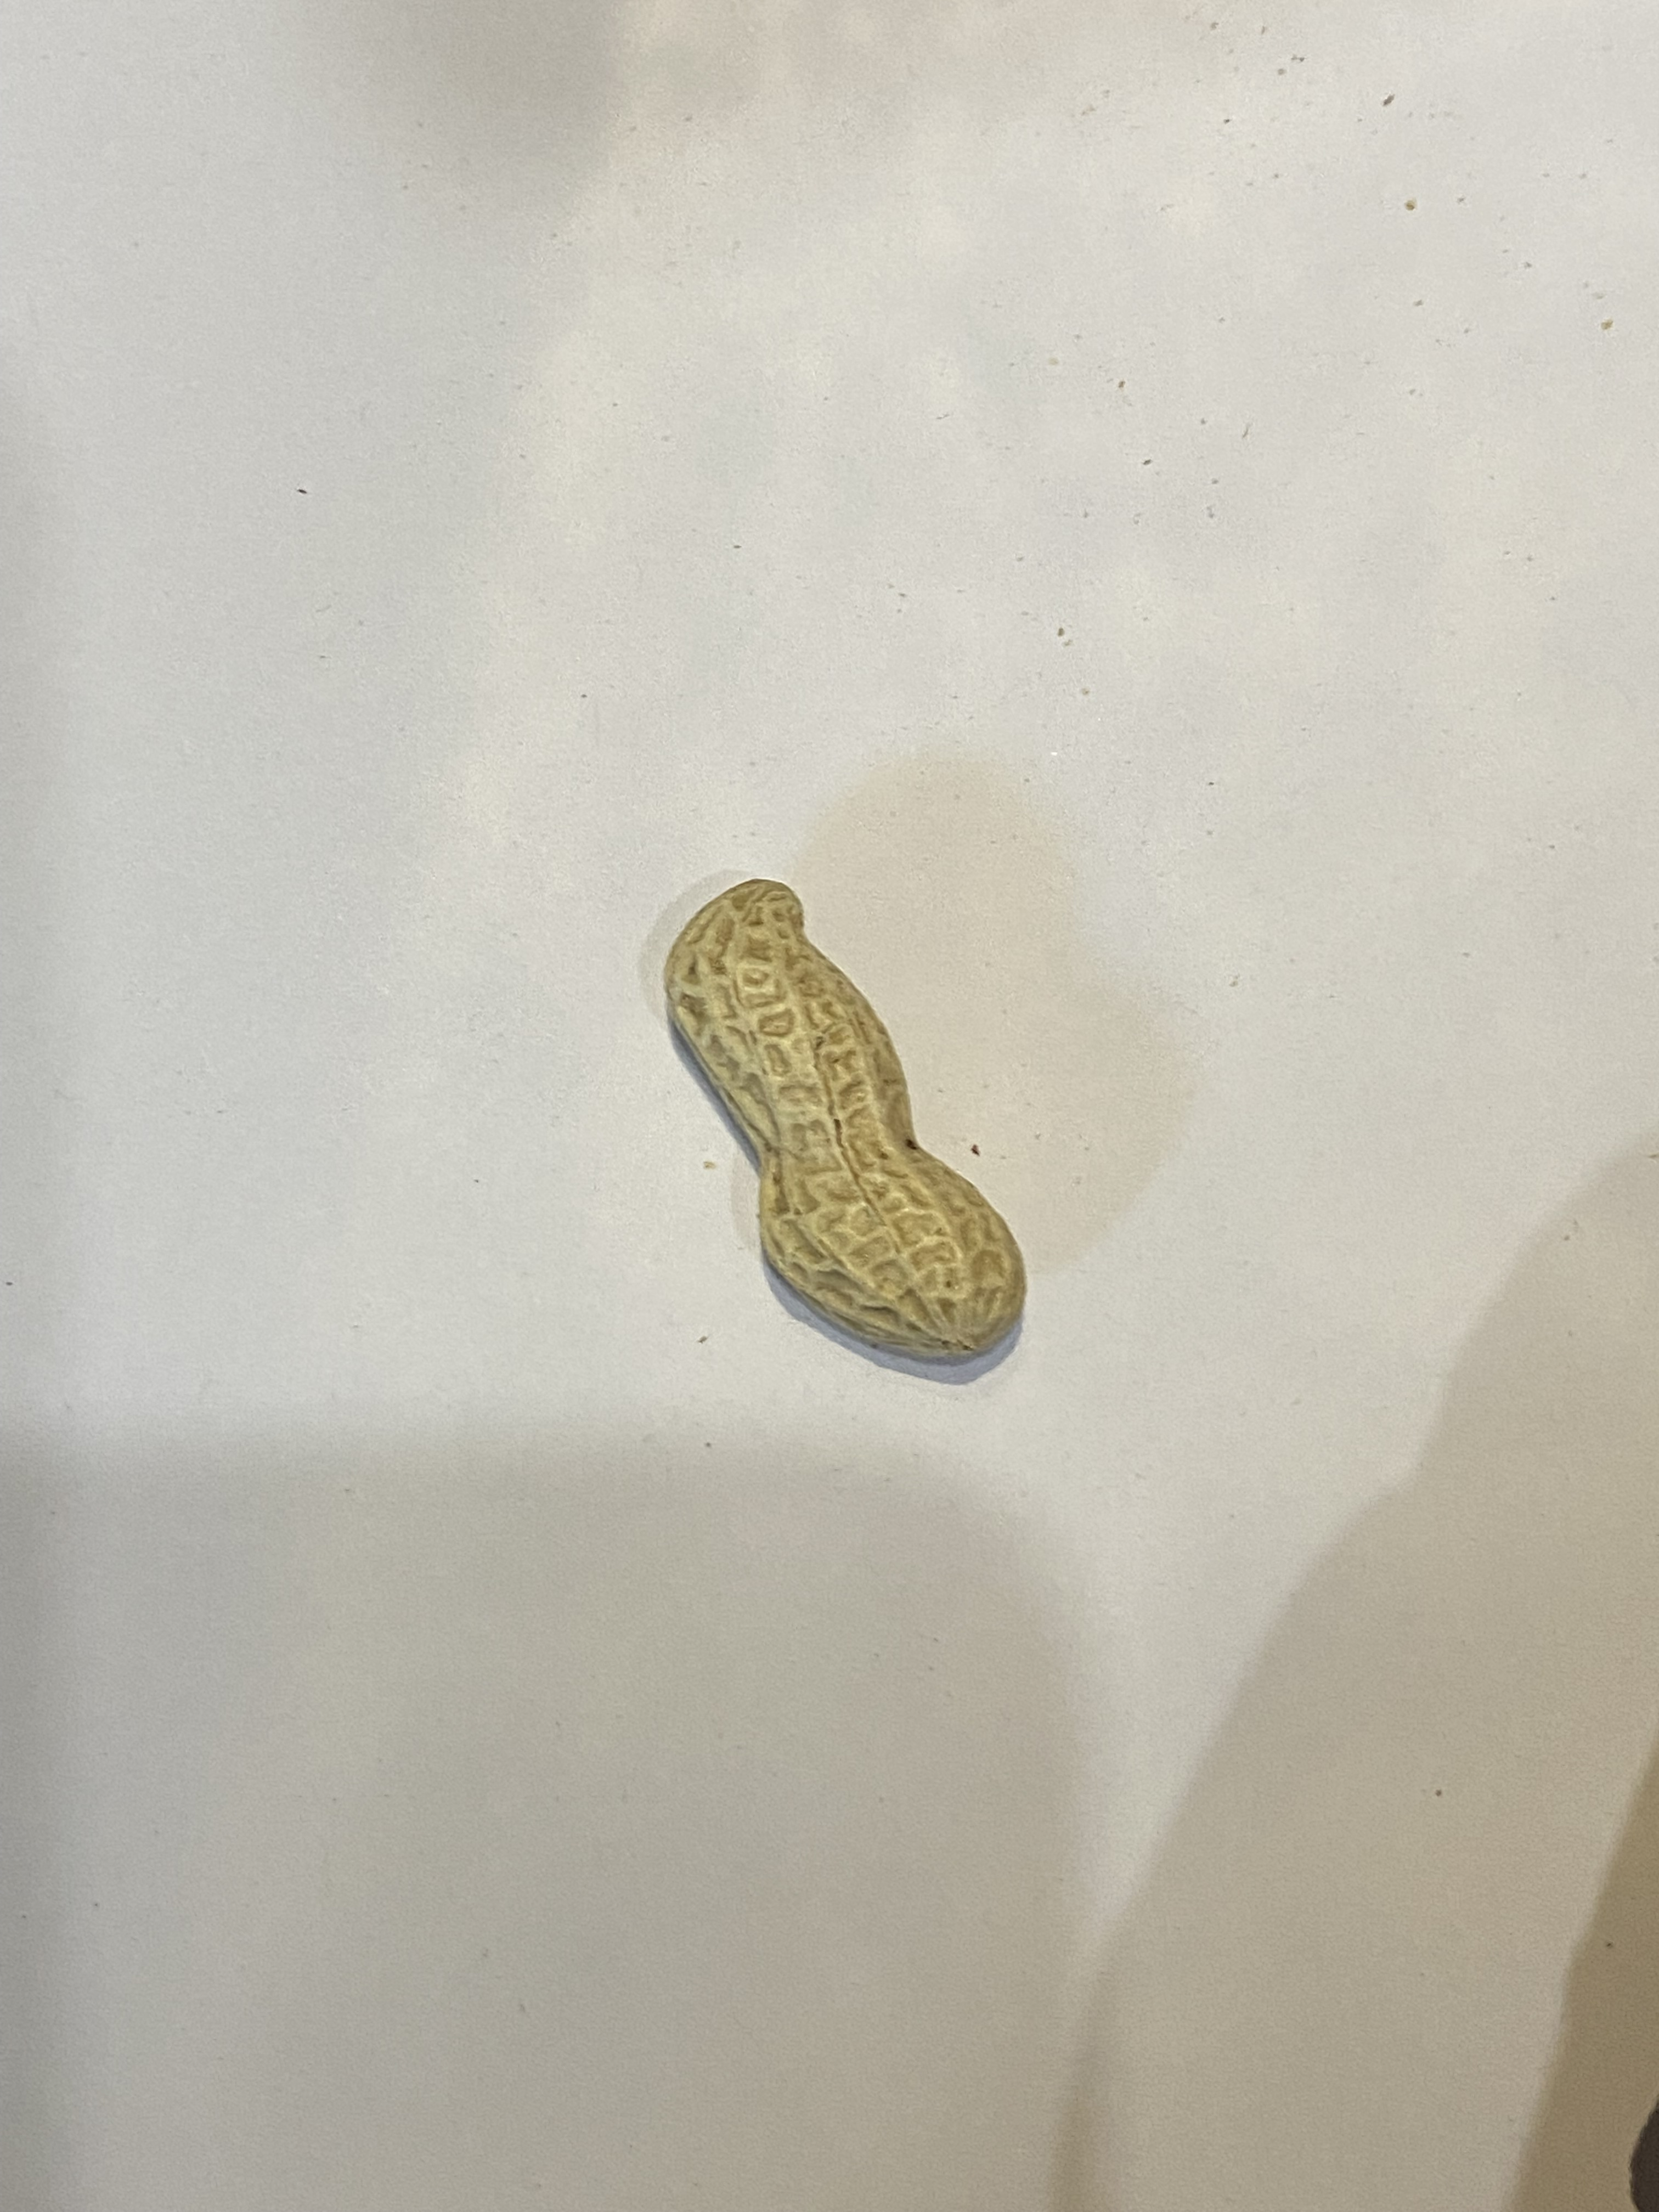kacang2: (657, 862, 1044, 1372)
